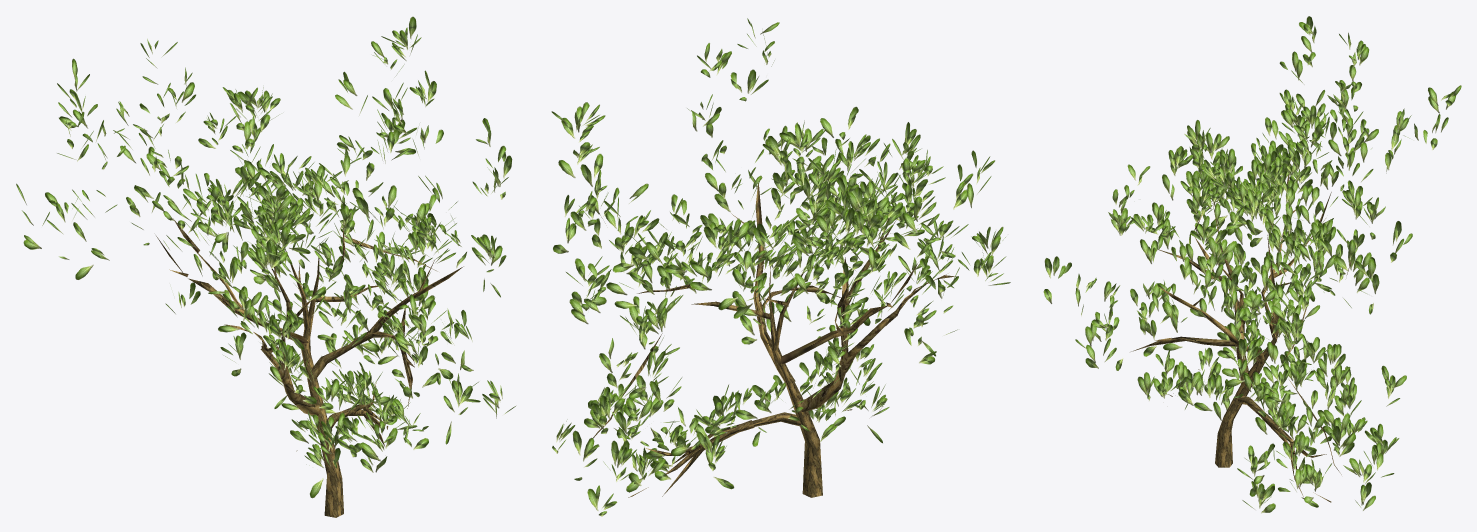
Rendered from sh-scopia-bush.glb.
3 views of the same model, side by side, from view 1: azimuth 30°, elevation 25°; view 2: azimuth 150°, elevation 25°; view 3: azimuth 270°, elevation 25° (orthographic). The views are drawn at different scales.
Visible parts, largest first — view 1: leaves.001, stems_1.001; view 2: leaves.001, stems_1.001; view 3: leaves.001, stems_1.001.
Boxes of the visible parts, x1,y1,x2,y2 form: leaves.001: (16, 16, 515, 498); stems_1.001: (156, 118, 463, 517); leaves.001: (551, 18, 1010, 516); stems_1.001: (593, 183, 956, 497); leaves.001: (1043, 16, 1461, 513); stems_1.001: (1131, 161, 1350, 502).
Size of the model in its own units: 0.9952 by 0.9951 by 0.9787.
2 materials, 2 textured.
